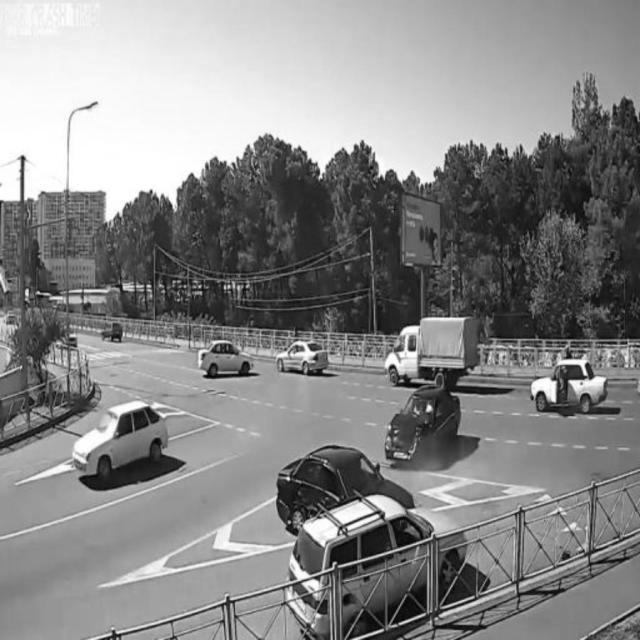vehicle: (285, 496, 467, 636), (277, 445, 418, 535), (76, 403, 169, 487), (382, 315, 480, 382), (386, 390, 462, 466), (532, 355, 610, 419), (198, 334, 253, 379), (276, 334, 328, 379), (100, 314, 125, 344)
